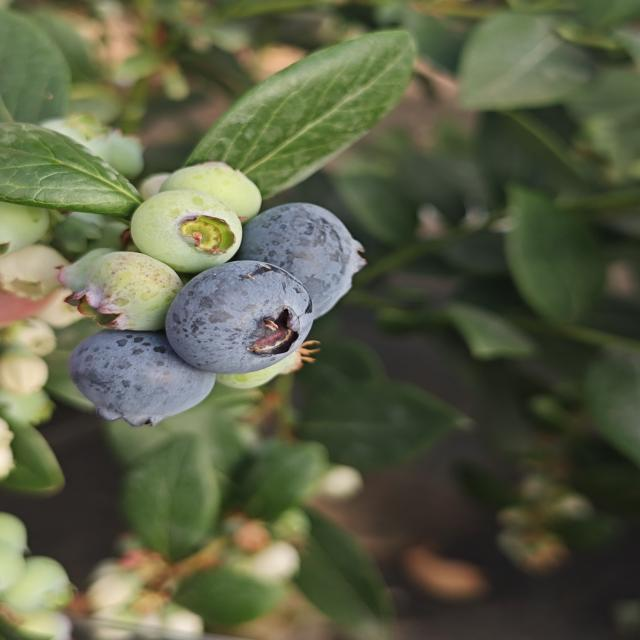ripe: (164, 258, 322, 378), (62, 321, 229, 429), (232, 198, 372, 323)
